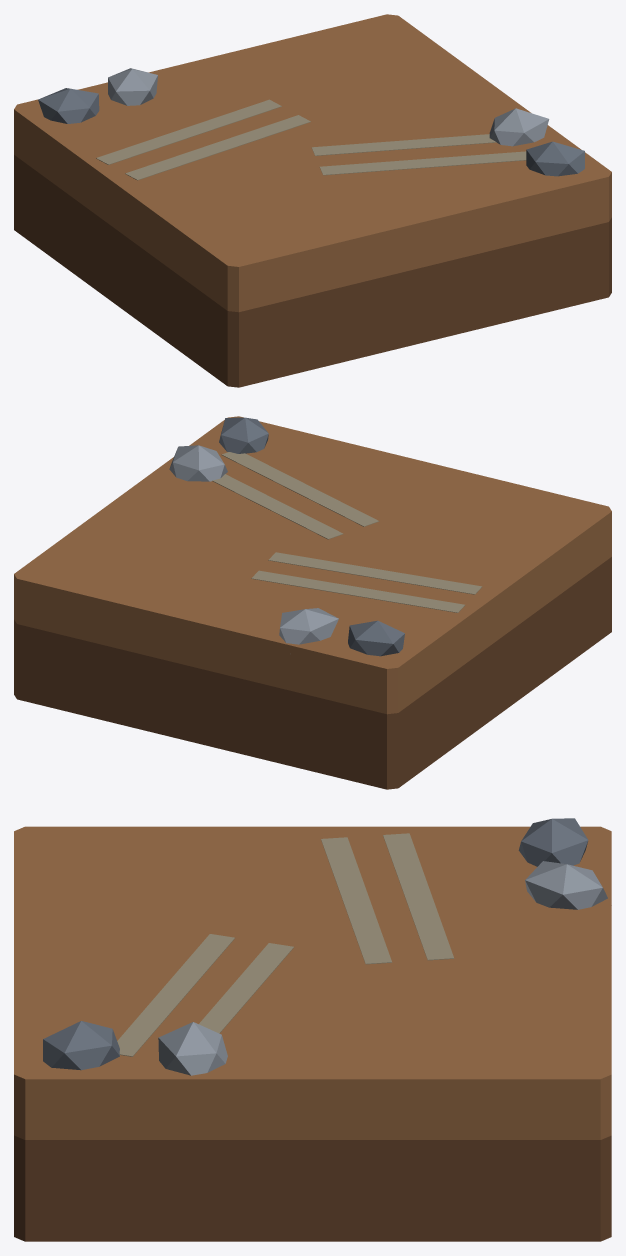
Rendered from ground_platform.glb.
3 views of the same model, one above another, from view 1: azimuth 30°, elevation 25°; view 2: azimuth 150°, elevation 25°; view 3: azimuth 270°, elevation 25° (orthographic). The views are drawn at different scales.
Parts seen in each view (by area): view 1: ground_platform; view 2: ground_platform; view 3: ground_platform.
Boxes of the visible parts, bbox=[...] form: ground_platform: bbox=[14, 14, 611, 387]; ground_platform: bbox=[14, 416, 611, 789]; ground_platform: bbox=[14, 818, 611, 1241].
Bounding box in the file's own units: 8 × 2.92 × 8.
